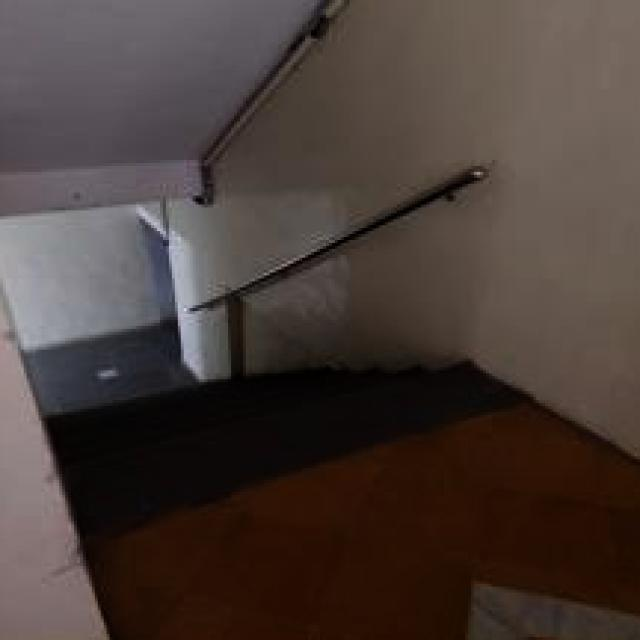downstair: (54, 342, 389, 487)
